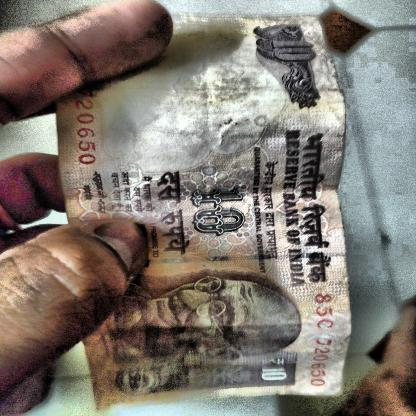Rs10: (185, 183, 249, 239), (262, 22, 321, 65), (257, 354, 291, 386)
